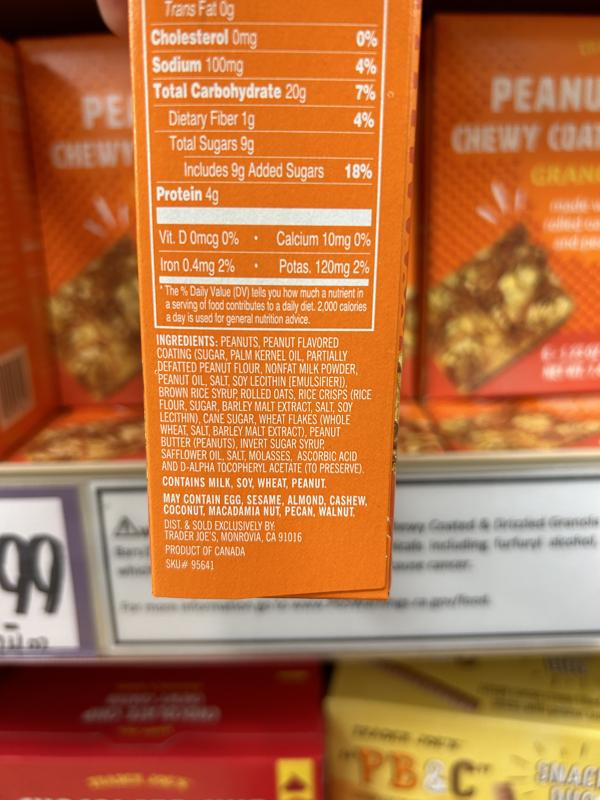ingredients: (152, 332, 375, 475)
